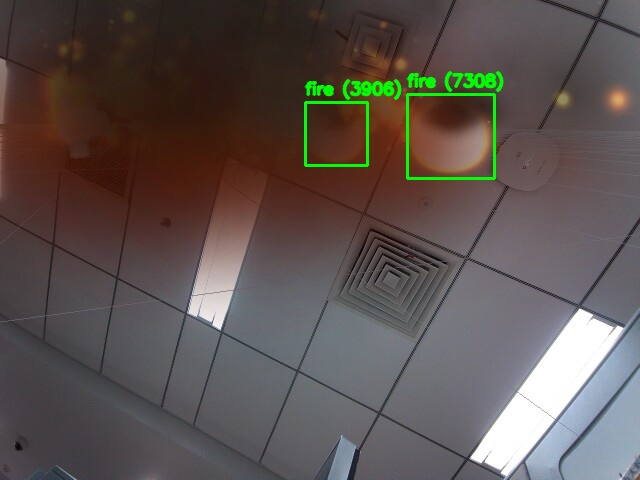fire: (407, 94, 494, 178), (305, 102, 367, 165)
